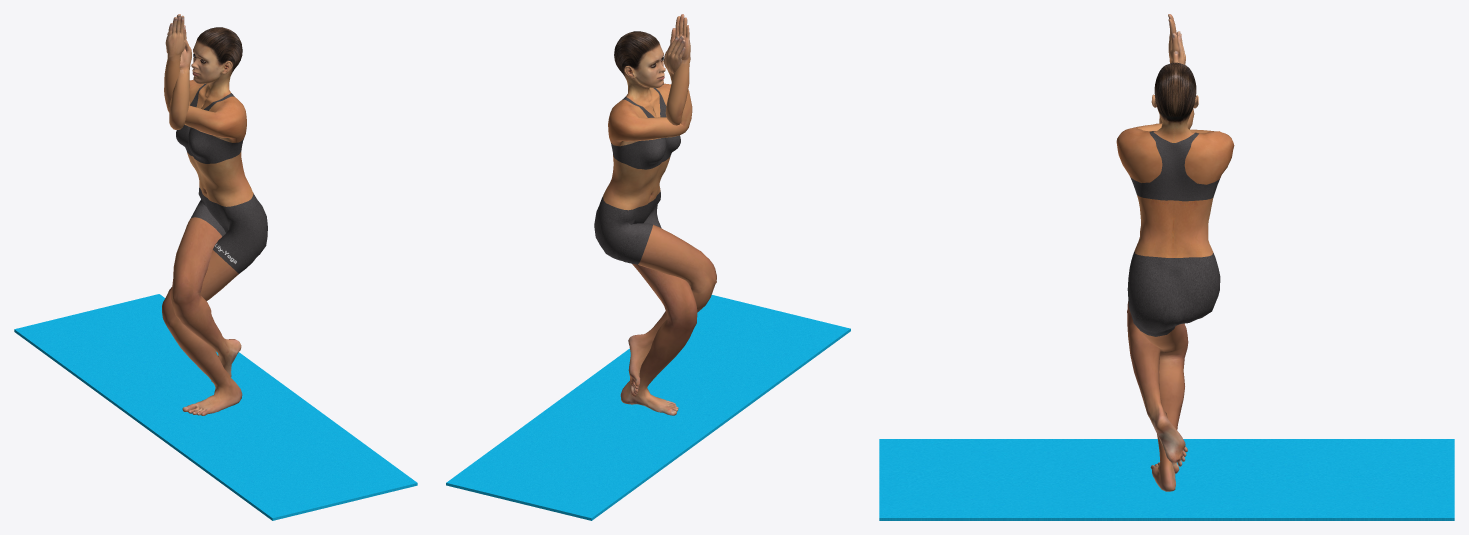
The model's file is garudasana.glb.
The picture shows the model from 3 angles, left to right: view 1: azimuth 30°, elevation 25°; view 2: azimuth 150°, elevation 25°; view 3: azimuth 270°, elevation 25°; orthographic projection. The views are drawn at different scales.
Visible parts, largest first — view 1: mat.001, FemaleSkin_Lily_Texture01_06_2016.jpg; view 2: mat.001, FemaleSkin_Lily_Texture01_06_2016.jpg; view 3: mat.001, FemaleSkin_Lily_Texture01_06_2016.jpg.
Boxes of the visible parts, box(x1,y1,x2,y2) form: mat.001: box(14, 294, 417, 520); FemaleSkin_Lily_Texture01_06_2016.jpg: box(162, 14, 267, 415); mat.001: box(446, 295, 850, 520); FemaleSkin_Lily_Texture01_06_2016.jpg: box(594, 14, 716, 415); mat.001: box(879, 439, 1454, 520); FemaleSkin_Lily_Texture01_06_2016.jpg: box(1116, 14, 1234, 491).
Size of the model in its own units: 2 by 5.3 by 6.17.
3 materials, 3 textured.
